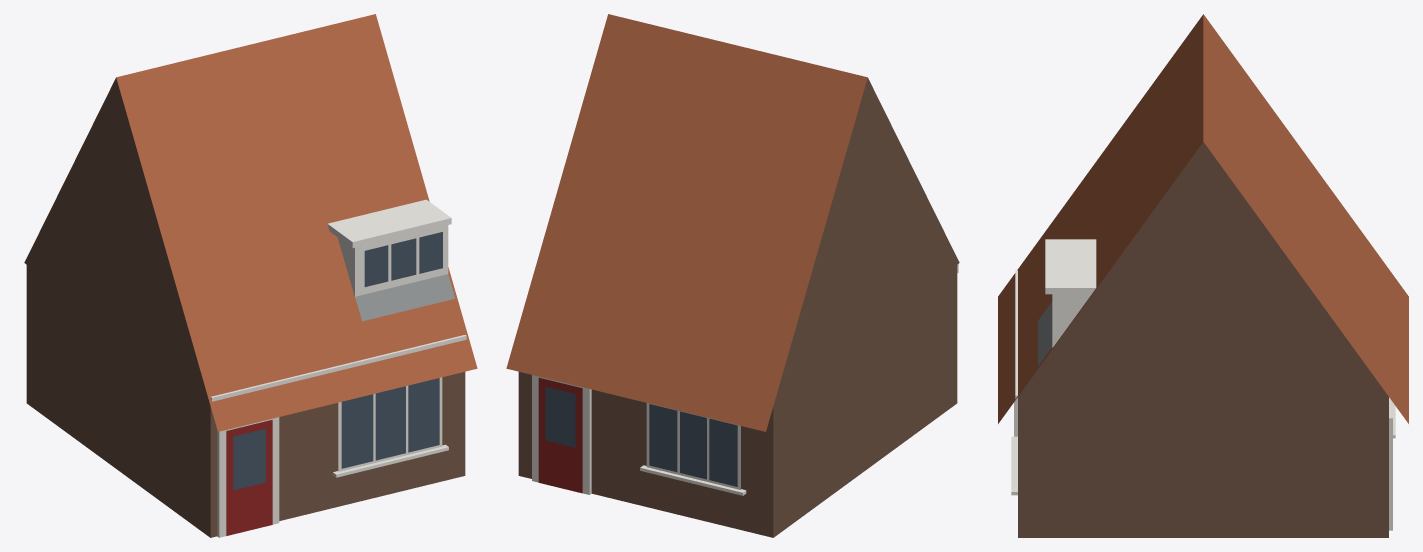
File: nd-to-cottage__red-door__2__gable__long__solid__f0d0.glb
3 renders of one model, left to right at view 1: azimuth 30°, elevation 25°; view 2: azimuth 150°, elevation 25°; view 3: azimuth 270°, elevation 25°, orthographic.
Parts seen in each view (by area): view 1: nd-to-cottage__red-door__2__gable__long__solid__f0d0; view 2: nd-to-cottage__red-door__2__gable__long__solid__f0d0; view 3: nd-to-cottage__red-door__2__gable__long__solid__f0d0.
Part boxes in pixels (bbox=[...]): nd-to-cottage__red-door__2__gable__long__solid__f0d0: bbox=[24, 14, 477, 537]; nd-to-cottage__red-door__2__gable__long__solid__f0d0: bbox=[506, 14, 959, 537]; nd-to-cottage__red-door__2__gable__long__solid__f0d0: bbox=[998, 14, 1408, 537].
Size of the model in its own units: 5.3 by 7.68 by 7.19.
